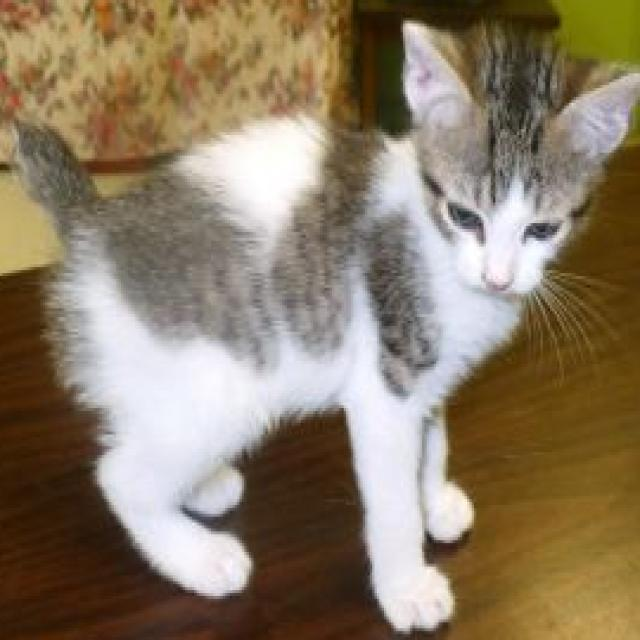American Bobtail: (9, 6, 640, 637)
